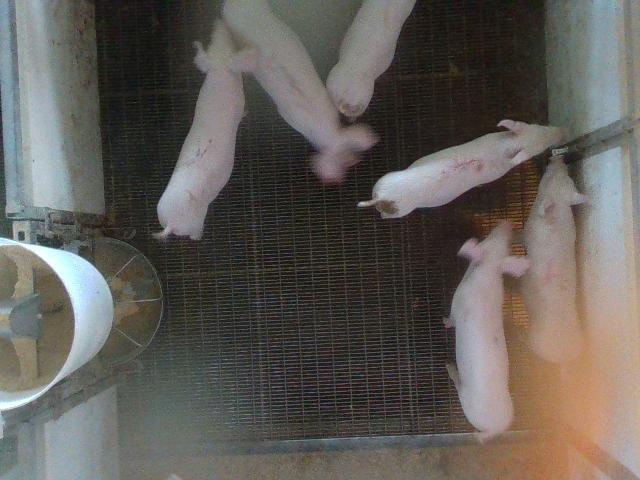pig-3: (222, 1, 378, 182)
pig-4: (521, 155, 588, 362)
pig-5: (359, 119, 568, 218)
